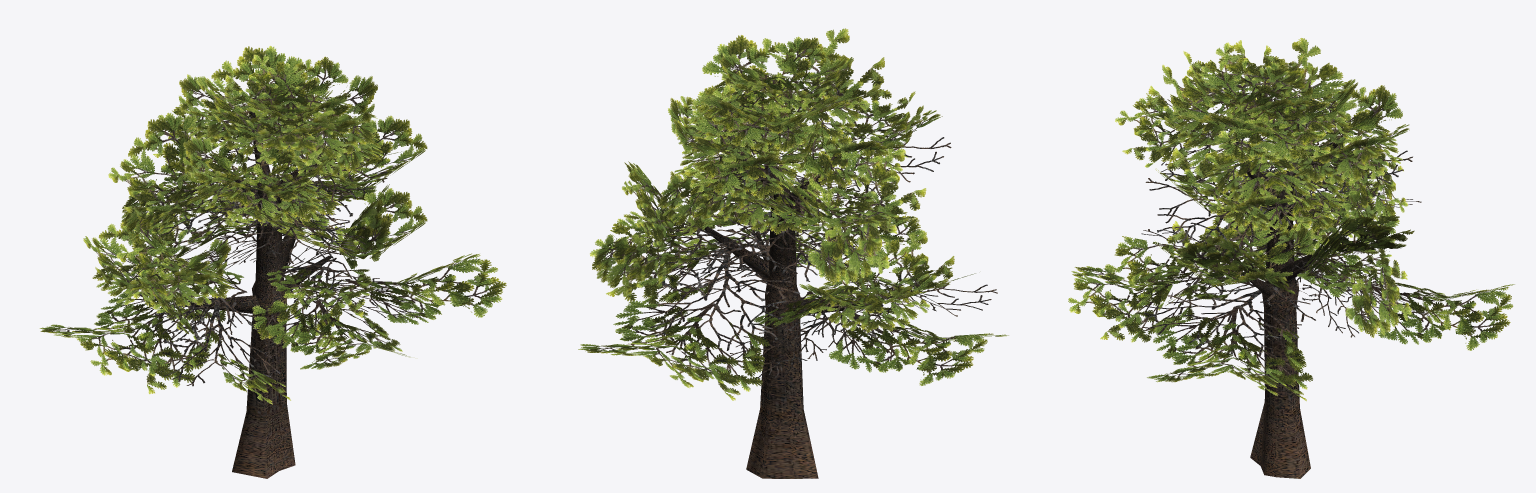
File: flora_tree_oak_hungarian.glb
The picture shows the model from 3 angles, left to right: view 1: azimuth 30°, elevation 25°; view 2: azimuth 150°, elevation 25°; view 3: azimuth 270°, elevation 25°; orthographic projection.
Parts seen in each view (by area): view 1: flora_tree_oak_hungarian_part0, flora_tree_oak_hungarian_part1; view 2: flora_tree_oak_hungarian_part0, flora_tree_oak_hungarian_part1; view 3: flora_tree_oak_hungarian_part0, flora_tree_oak_hungarian_part1.
Part boxes in pixels (x1=…): flora_tree_oak_hungarian_part0: x1=39, y1=45, x2=506, y2=478; flora_tree_oak_hungarian_part1: x1=120, y1=120, x2=420, y2=386; flora_tree_oak_hungarian_part0: x1=578, y1=28, x2=1008, y2=478; flora_tree_oak_hungarian_part1: x1=650, y1=106, x2=997, y2=378; flora_tree_oak_hungarian_part0: x1=1068, y1=38, x2=1514, y2=478; flora_tree_oak_hungarian_part1: x1=1141, y1=99, x2=1438, y2=358.
Size of the model in its own units: 21.34 by 19.61 by 19.89.
2 materials, 2 textured.
